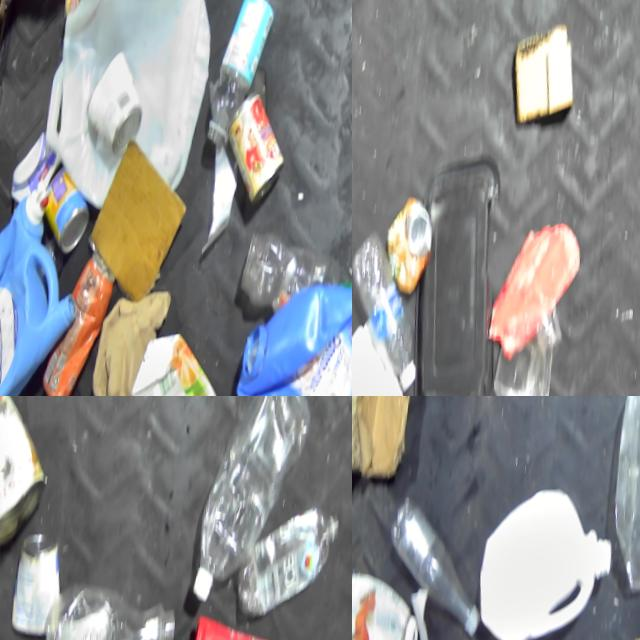can: (222, 90, 289, 210), (515, 26, 585, 126), (10, 532, 70, 640), (87, 49, 143, 156), (385, 197, 441, 293), (50, 166, 89, 244)
milk_jug: (44, 0, 216, 192), (475, 486, 623, 640)
non_white_jug: (0, 180, 77, 396), (233, 276, 352, 396)
plastic_bottle: (197, 396, 314, 606), (236, 509, 350, 640), (352, 243, 439, 396), (204, 0, 283, 151), (42, 586, 185, 640), (352, 563, 436, 640), (611, 396, 640, 613)
